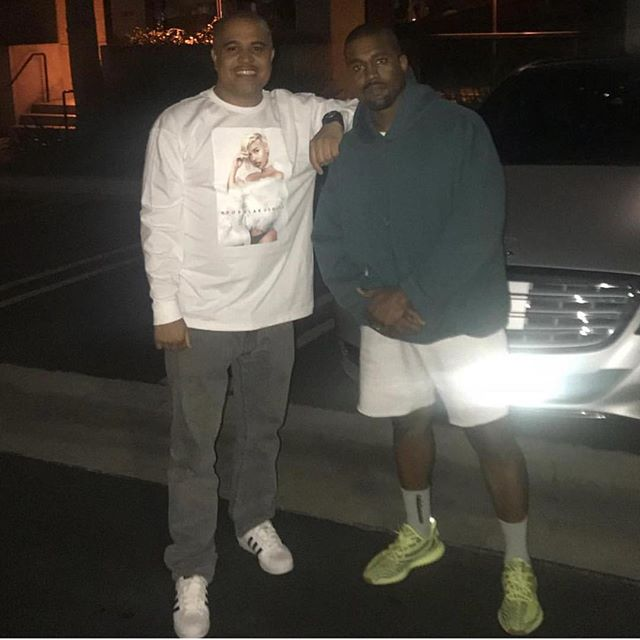Yeezy Semi-Frozen: (355, 499, 449, 596), (495, 545, 546, 637)
